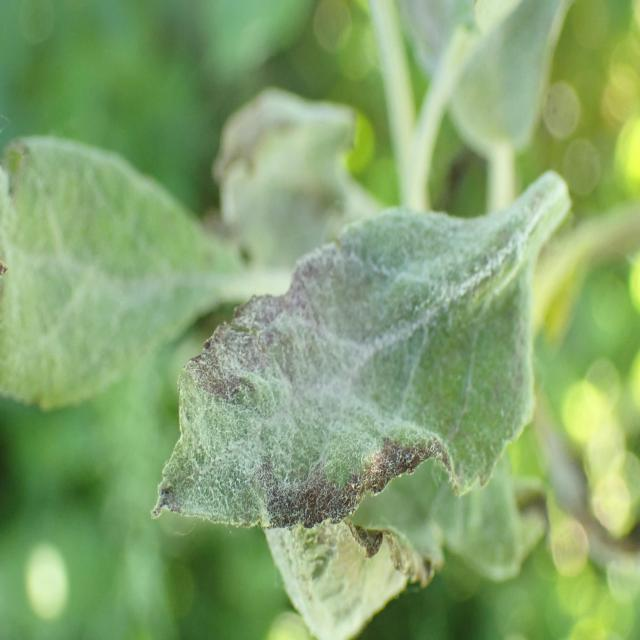Powdery_mildew: (165, 190, 566, 524), (0, 124, 260, 411), (236, 440, 527, 640)
